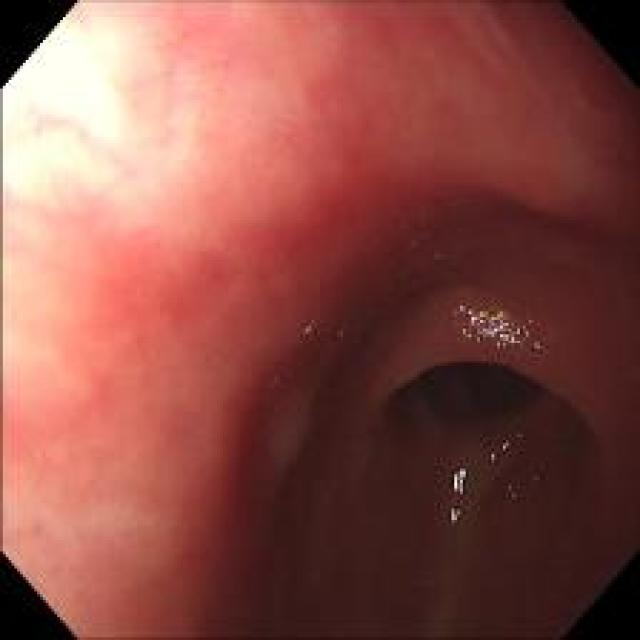color misalignment: (455, 305, 545, 360), (301, 315, 320, 336), (505, 479, 516, 502)
contrast: (330, 305, 632, 620)
saturation: (8, 2, 154, 209)
specularity: (451, 301, 549, 361), (485, 430, 531, 459), (448, 464, 469, 524), (296, 311, 321, 338), (505, 476, 520, 504)
